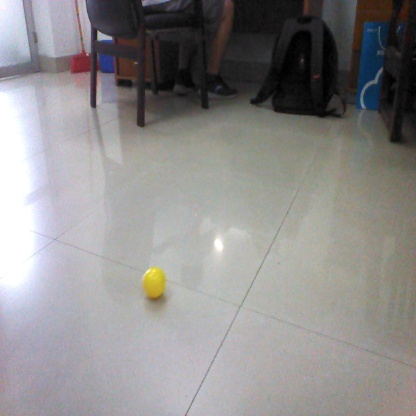ball: (141, 269, 165, 299)
